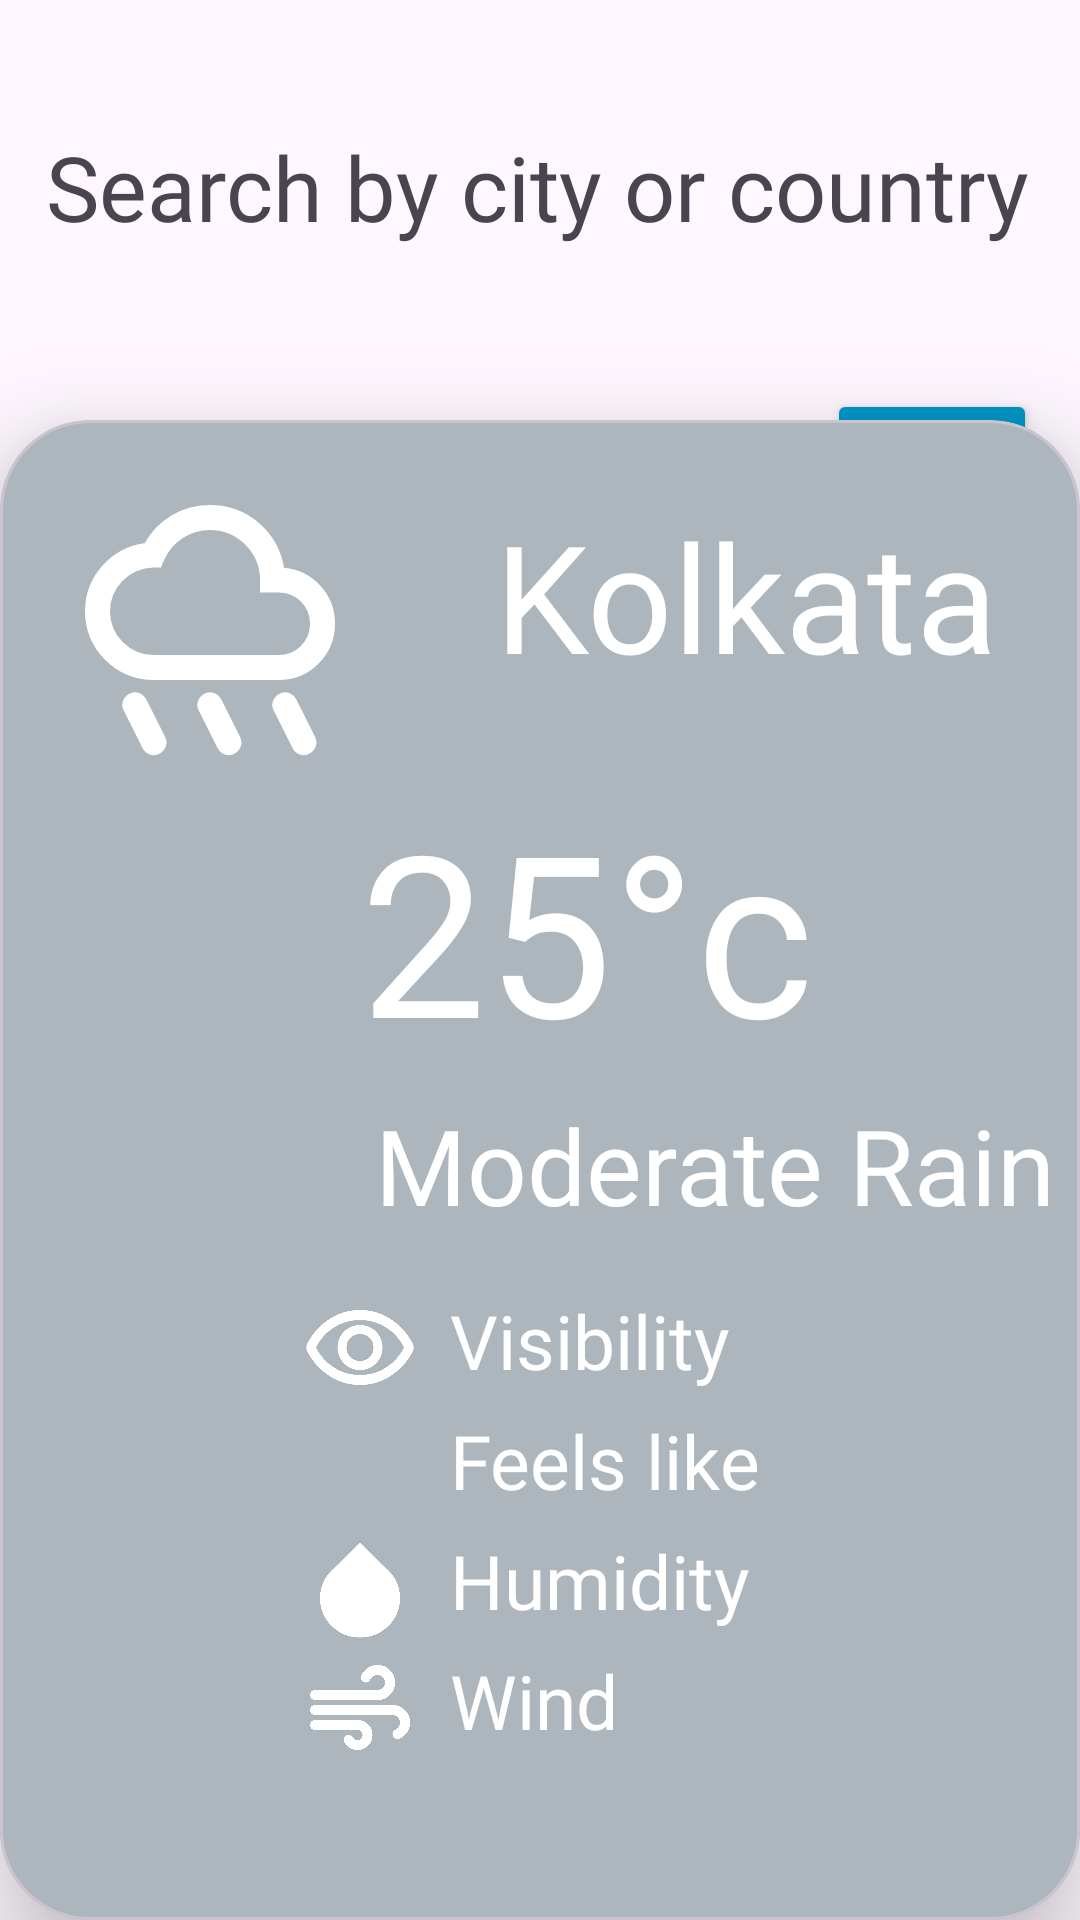

Screen size 1080px x 1920px. Icon name, then its box in pixels as (x1, y1, x2, y2):
rainy: (85, 505, 335, 755)
